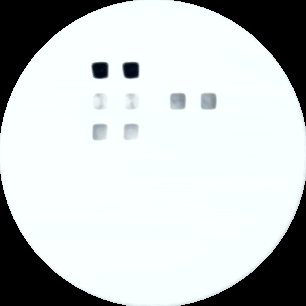检查点: (88, 59, 111, 81), (196, 91, 219, 113), (120, 91, 142, 112), (168, 91, 191, 111), (121, 122, 142, 142), (121, 61, 141, 81), (91, 122, 110, 143), (90, 92, 110, 111)
